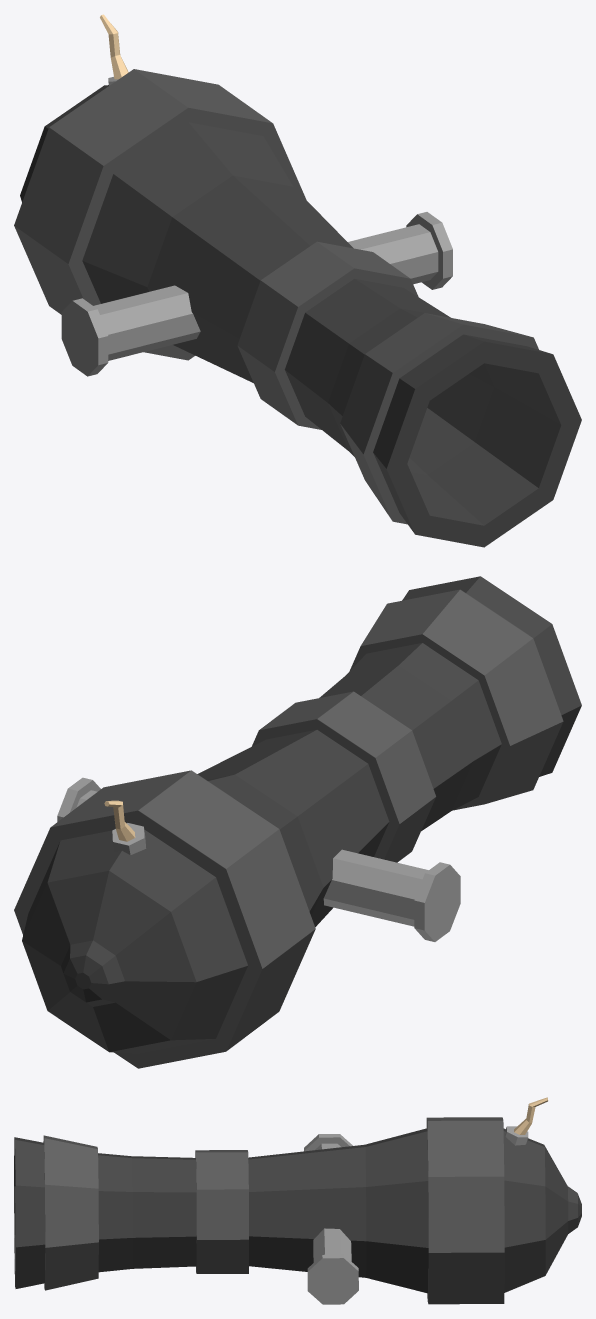
Rendered from cannon.muzzle.02.fbx.
The picture shows the model from 3 angles, top to bottom: view 1: azimuth 30°, elevation 25°; view 2: azimuth 150°, elevation 25°; view 3: azimuth 270°, elevation 25°; orthographic projection. The views are drawn at different scales.
Parts seen in each view (by area): view 1: cannon.muzzle.02; view 2: cannon.muzzle.02; view 3: cannon.muzzle.02.
Part boxes in pixels (bbox=[...]): cannon.muzzle.02: bbox=[14, 14, 581, 547]; cannon.muzzle.02: bbox=[14, 576, 581, 1068]; cannon.muzzle.02: bbox=[14, 1097, 581, 1304].
Bounding box in the file's own units: 1.2 × 0.91 × 2.31.
